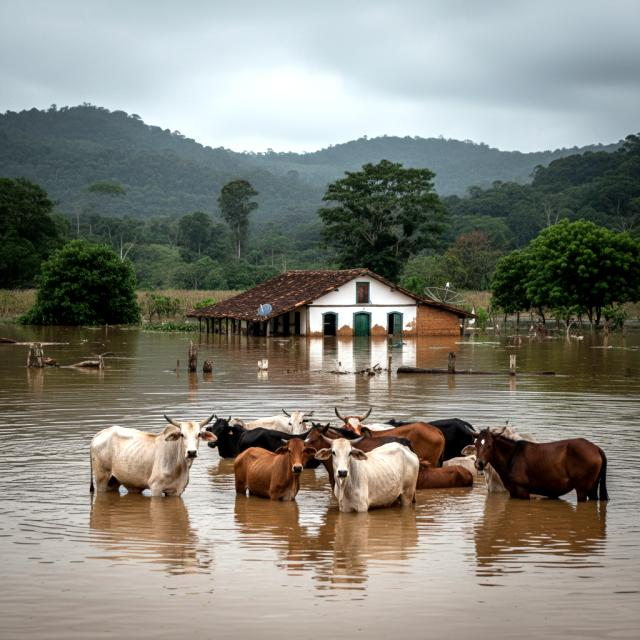cow: (83, 411, 217, 503), (314, 432, 424, 520), (457, 418, 547, 498), (231, 436, 320, 509), (201, 412, 311, 461), (387, 418, 480, 460), (223, 406, 320, 437), (411, 455, 477, 497), (331, 403, 373, 439), (443, 449, 482, 479)
horse: (469, 425, 621, 511), (298, 423, 418, 488), (367, 419, 446, 468)
